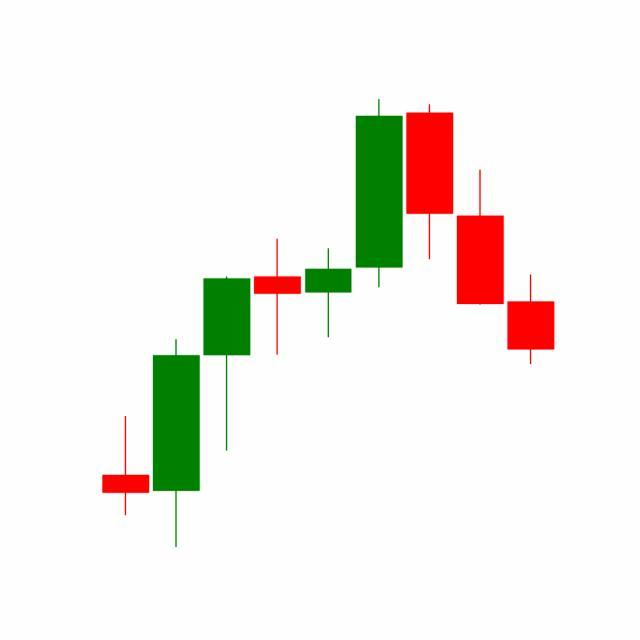Hikkake Pattern: (252, 99, 506, 359)
